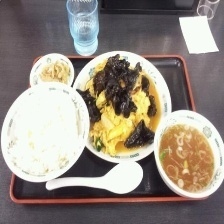rice: (7, 85, 79, 176)
